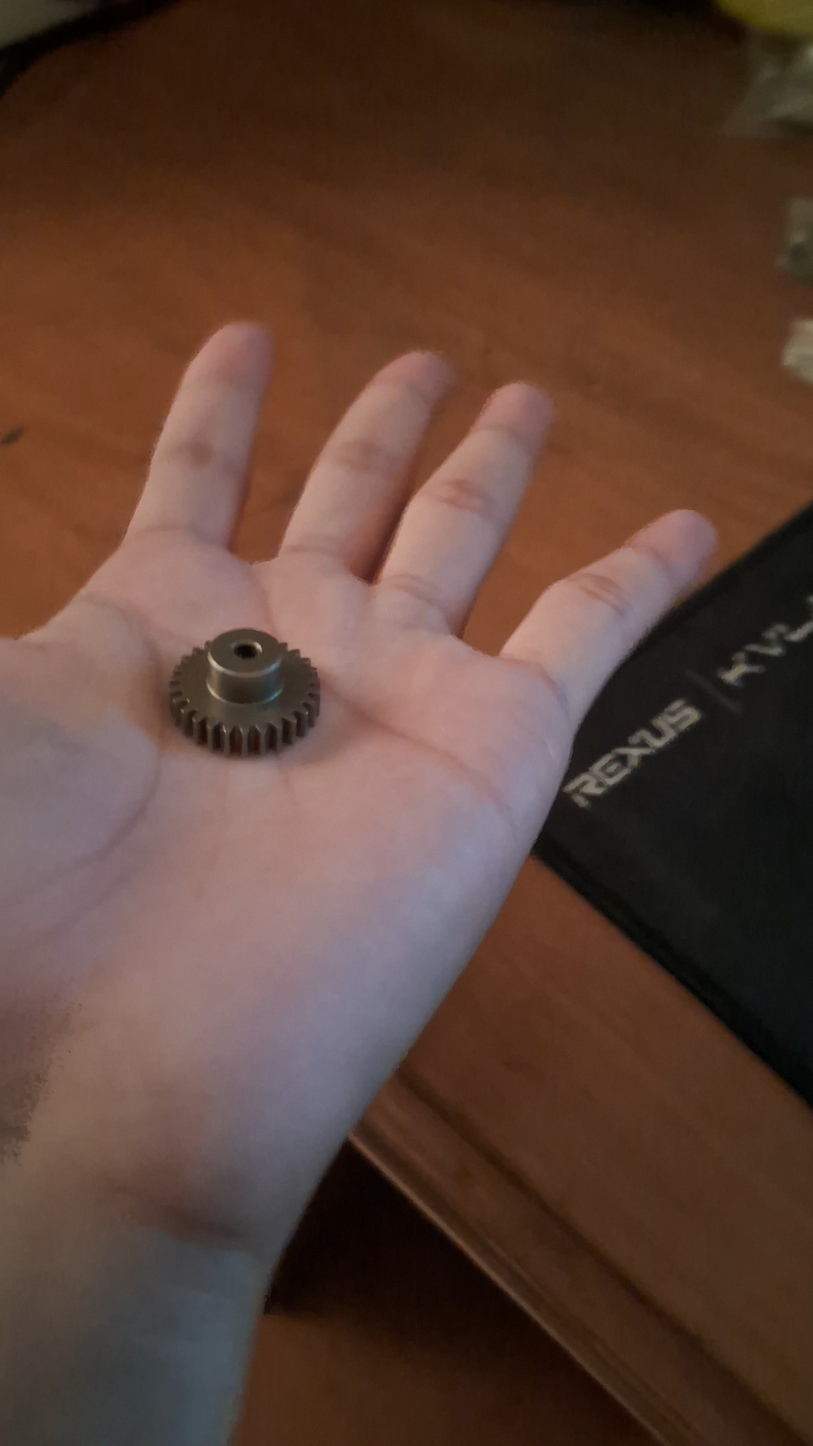spur gear: (169, 628, 320, 755)
